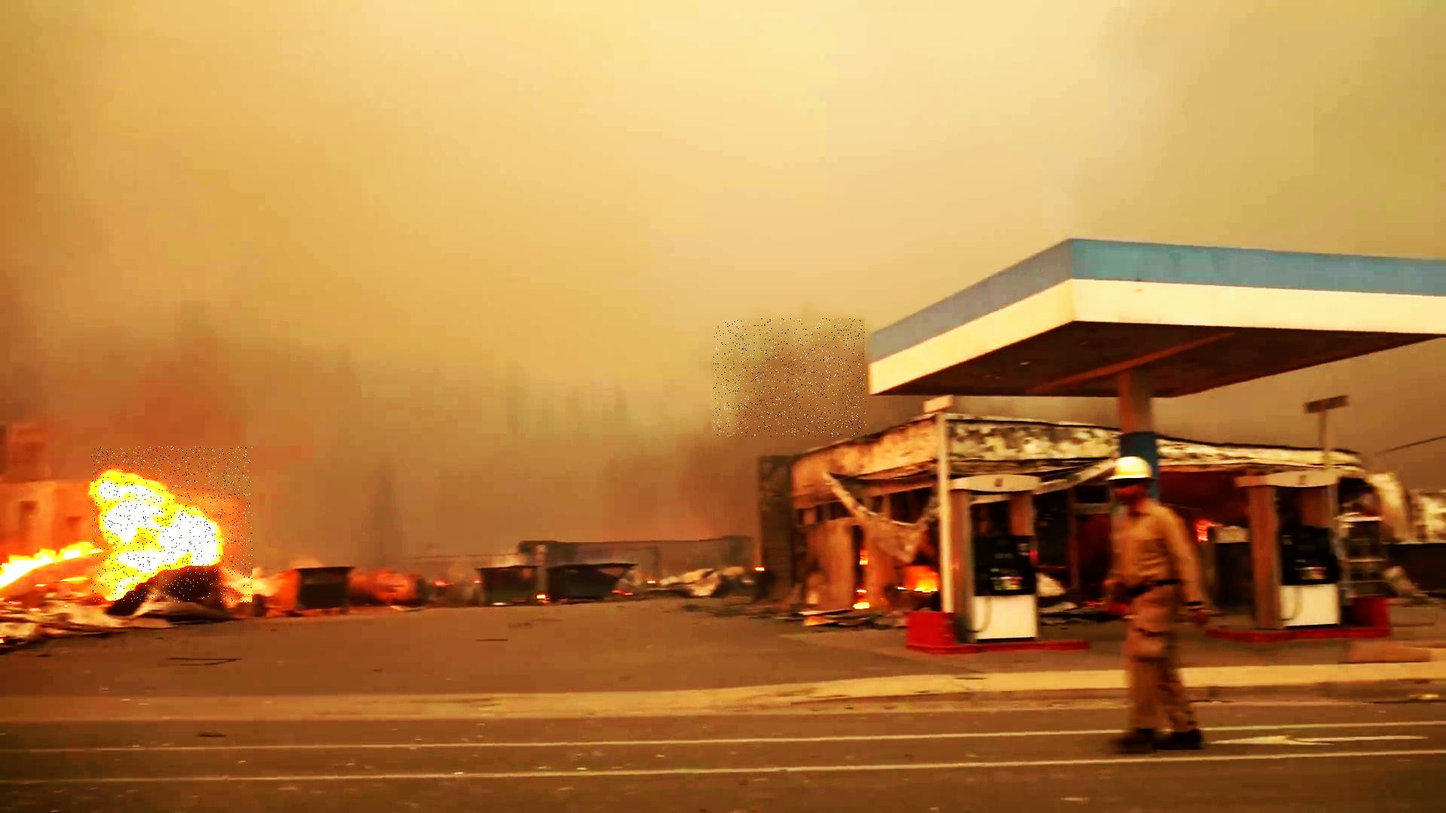fire: (91, 447, 253, 602)
smoke: (714, 319, 867, 437)
